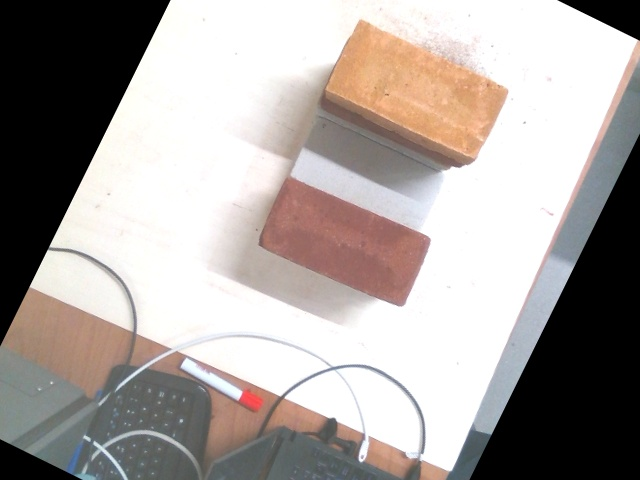brick: (325, 17, 506, 158), (258, 178, 430, 307), (289, 115, 446, 232)
